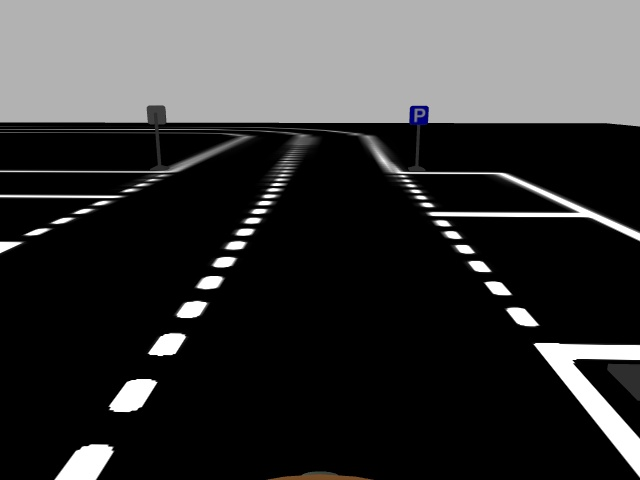parking: (409, 104, 429, 126)
